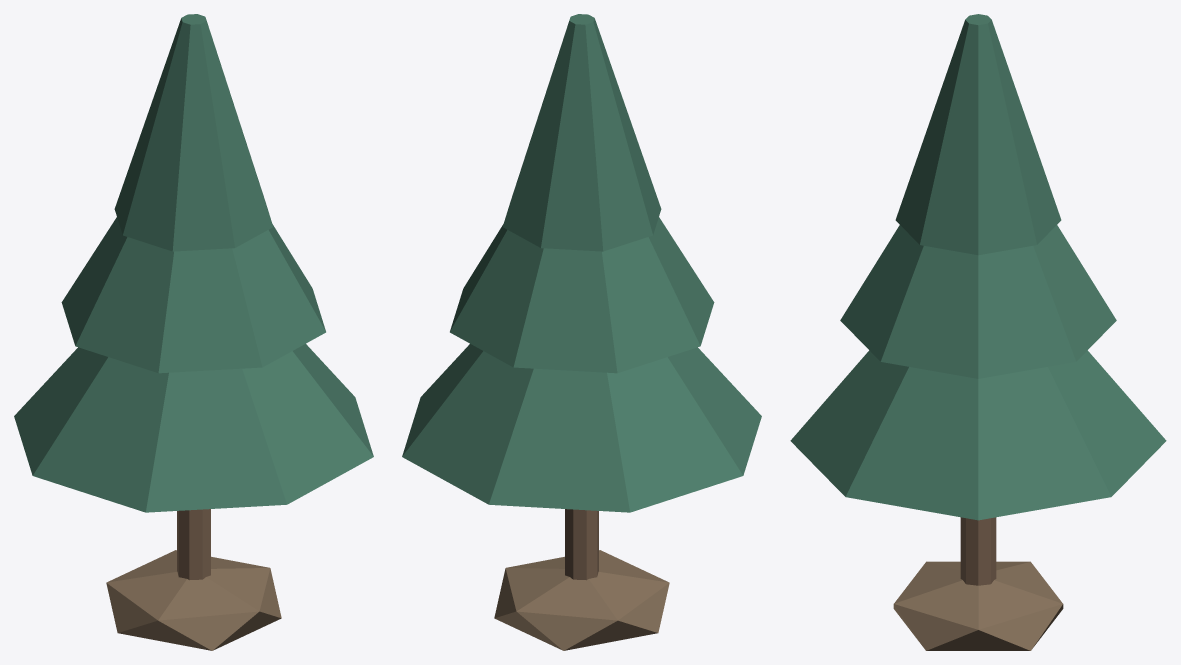
Rendered from cl-pine.glb.
The picture shows the model from 3 angles, left to right: view 1: azimuth 30°, elevation 25°; view 2: azimuth 150°, elevation 25°; view 3: azimuth 270°, elevation 25°; orthographic projection.
Parts seen in each view (by area): view 1: bt-cl-pine_t0, bt-cl-pine_t1, bt-cl-pine_t2, bt-cl-pine_dirt, bt-cl-pine_trunk; view 2: bt-cl-pine_t0, bt-cl-pine_t1, bt-cl-pine_t2, bt-cl-pine_dirt, bt-cl-pine_trunk; view 3: bt-cl-pine_t0, bt-cl-pine_t1, bt-cl-pine_t2, bt-cl-pine_dirt, bt-cl-pine_trunk.
Part boxes in pixels (box(x1,y1,x2,y2)): bt-cl-pine_t0: box(14, 344, 373, 512); bt-cl-pine_t1: box(61, 217, 325, 373); bt-cl-pine_t2: box(114, 14, 273, 251); bt-cl-pine_dirt: box(106, 550, 281, 650); bt-cl-pine_trunk: box(177, 509, 210, 580); bt-cl-pine_t0: box(402, 344, 761, 512); bt-cl-pine_t1: box(450, 217, 714, 373); bt-cl-pine_t2: box(502, 14, 661, 251); bt-cl-pine_dirt: box(494, 550, 669, 650); bt-cl-pine_trunk: box(565, 509, 598, 580); bt-cl-pine_t0: box(790, 350, 1166, 520); bt-cl-pine_t1: box(840, 225, 1116, 378); bt-cl-pine_t2: box(895, 14, 1061, 255); bt-cl-pine_dirt: box(893, 561, 1063, 650); bt-cl-pine_trunk: box(960, 517, 996, 585).
Bounding box in the file's own units: 3.4 × 6.16 × 3.4.
